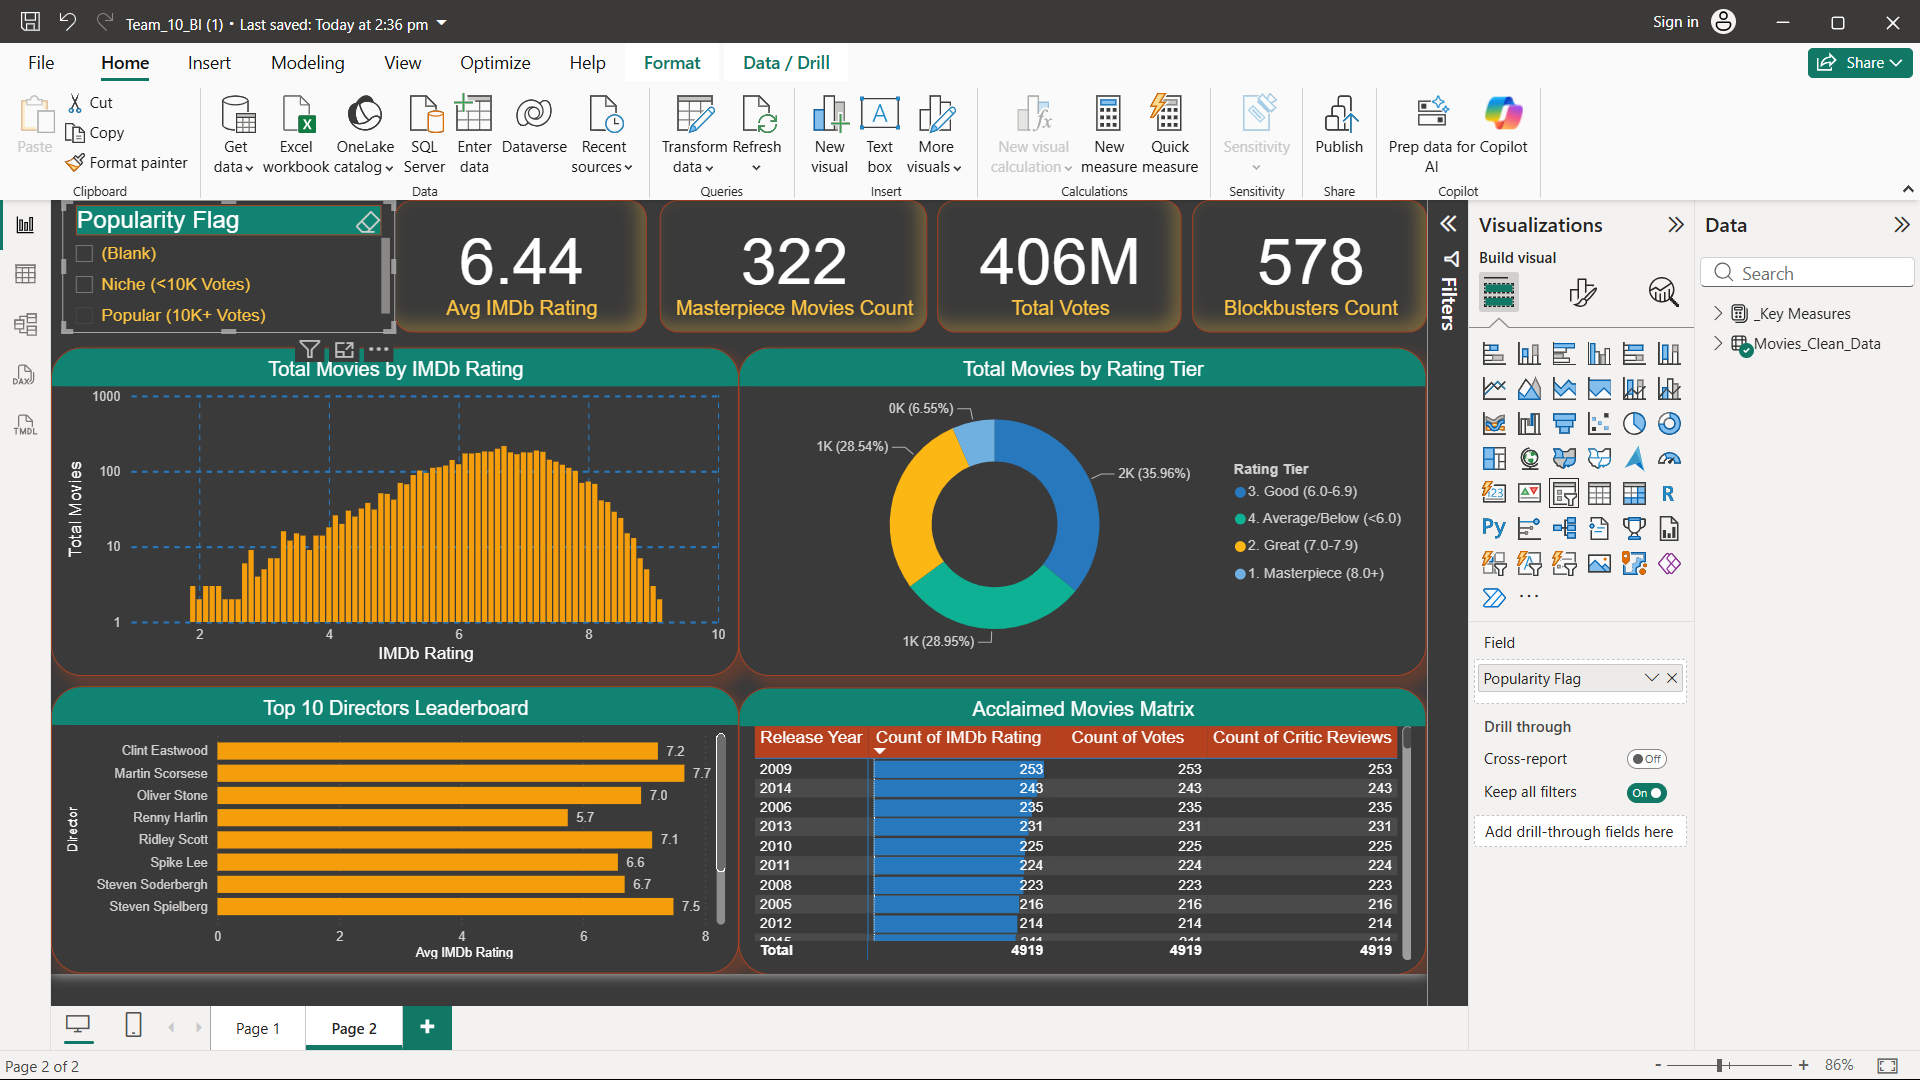

Layout of this report page (visuals, bound fields, positions):
{"tool":"powerbi","page":{"name":"Page 2","canvas":[1280,720],"ordinal":1},"visuals":[{"type":"slicer","fields":{"Values":["Movies_Clean_Data.Popularity Flag"]},"box":[10,0,310,122.9],"z":0},{"type":"card","fields":{"Values":["_Key Measures.Avg IMDb Rating"]},"box":[320,0,234.3,122.9],"z":1000},{"type":"card","fields":{"Values":["_Key Measures.Masterpiece Movies Count"]},"box":[565.7,0,248.6,122.9],"z":2000},{"type":"card","fields":{"Values":["_Key Measures.Total Votes"]},"box":[824.3,0,227.1,122.9],"z":3000},{"type":"clusteredColumnChart","fields":{"Category":["Movies_Clean_Data.IMDb Rating"],"Y":["_Key Measures.Total Movies"]},"box":[0,137.1,640,305.7],"z":4000},{"type":"donutChart","fields":{"Category":["Movies_Clean_Data.Rating Tier"],"Y":["_Key Measures.Total Movies"]},"box":[640,137.1,640,305.7],"z":5000},{"type":"clusteredBarChart","title":"Top 10 Directors Leaderboard","fields":{"Category":["Movies_Clean_Data.Director"],"Y":["_Key Measures.Avg IMDb Rating"]},"box":[0,452.9,640,267.1],"z":6000},{"type":"pivotTable","title":" Acclaimed Movies Matrix","fields":{"Rows":["Movies_Clean_Data.Movie Title","Movies_Clean_Data.Release Year","Movies_Clean_Data.Director"],"Values":["CountNonNull(Movies_Clean_Data.IMDb Rating)","CountNonNull(Movies_Clean_Data.Votes)","CountNonNull(Movies_Clean_Data.Critic Reviews)"]},"box":[640,453,640,267],"z":7000},{"type":"card","fields":{"Values":["_Key Measures.Blockbusters Count"]},"box":[1061.4,0,218.6,122.9],"z":7001}]}

Visuals, with their boxes on the page's 1280x720 design canvas (x1, y1, x2, y2). These are canvas units, not pixel positions in the 1920x1080 screenshot, which may show the page scaled, cropped or inside an application window:
slicer - Movies_Clean_Data.Popularity Flag: locate(10, 0, 320, 123)
card - _Key Measures.Avg IMDb Rating: locate(320, 0, 554, 123)
card - _Key Measures.Masterpiece Movies Count: locate(566, 0, 814, 123)
card - _Key Measures.Total Votes: locate(824, 0, 1051, 123)
clusteredColumnChart - Movies_Clean_Data.IMDb Rating x _Key Measures.Total Movies: locate(0, 137, 640, 443)
donutChart - Movies_Clean_Data.Rating Tier x _Key Measures.Total Movies: locate(640, 137, 1280, 443)
"Top 10 Directors Leaderboard" clusteredBarChart: locate(0, 453, 640, 720)
" Acclaimed Movies Matrix" pivotTable: locate(640, 453, 1280, 720)
card - _Key Measures.Blockbusters Count: locate(1061, 0, 1280, 123)
